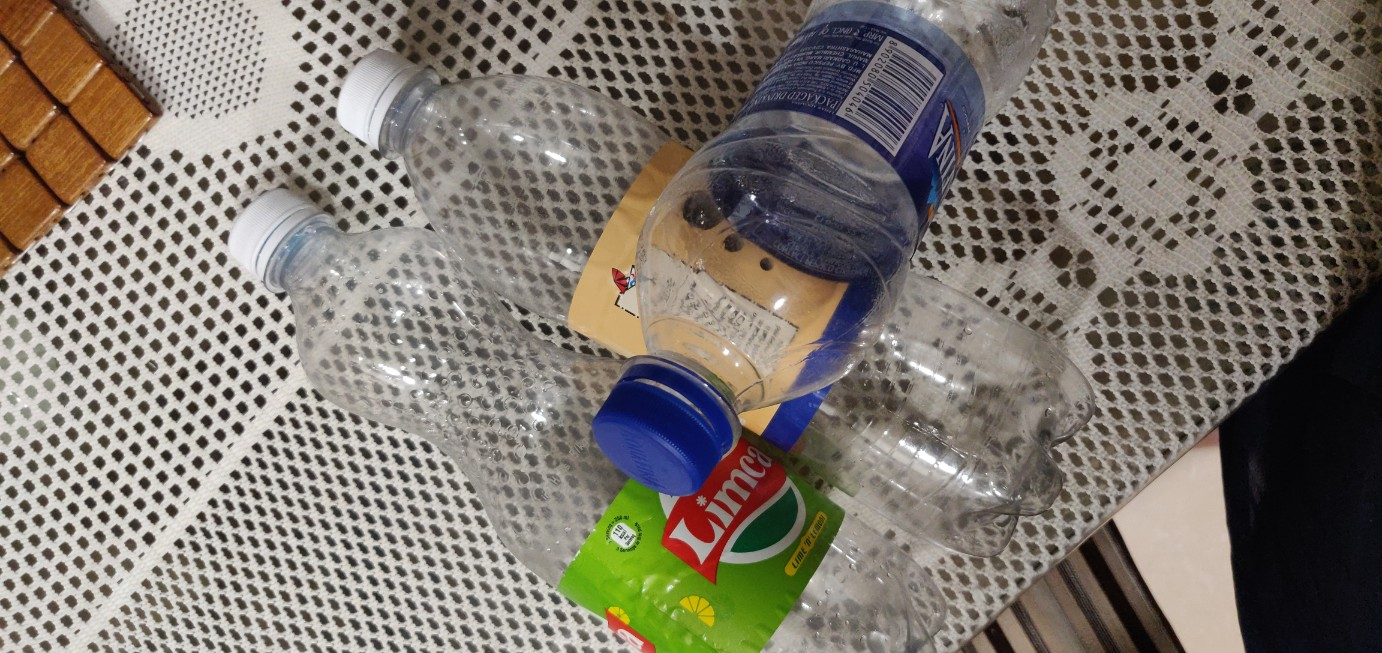Electronics: (317, 34, 1123, 583), (195, 149, 957, 653), (583, 6, 1055, 530)
